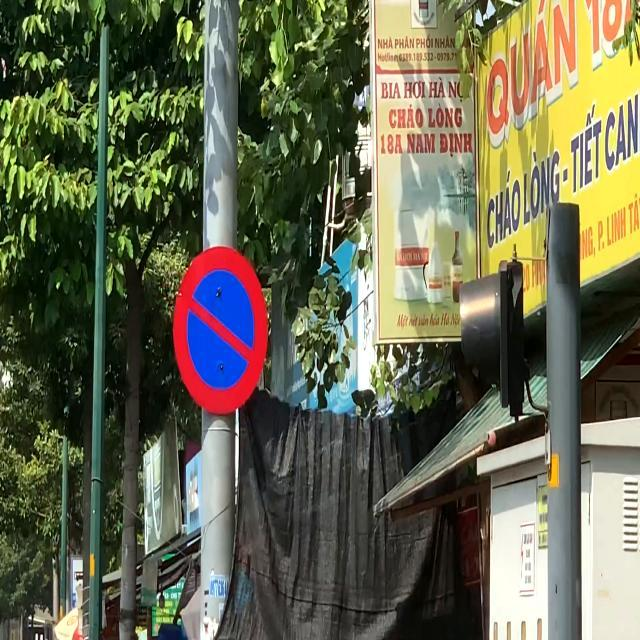Cam do xe: (170, 242, 270, 417)
